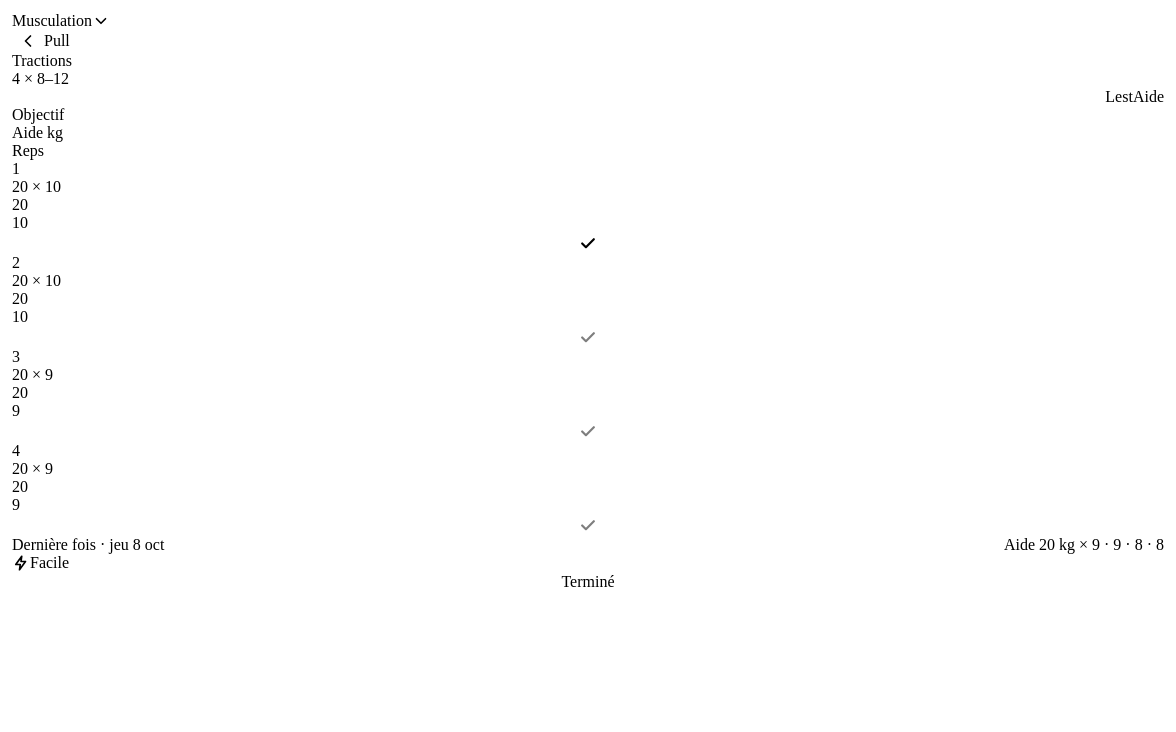
Test case: Exercice en cours — assistance (bodyweight exercises) › switching before any set is logged changes nothing stored; targets of the other mode are not targets
Expected: the heading "Tractions" is shown, [12,52,72,70]
Click the button "Lest" at (1119, 97), box [1105,88,1133,106]
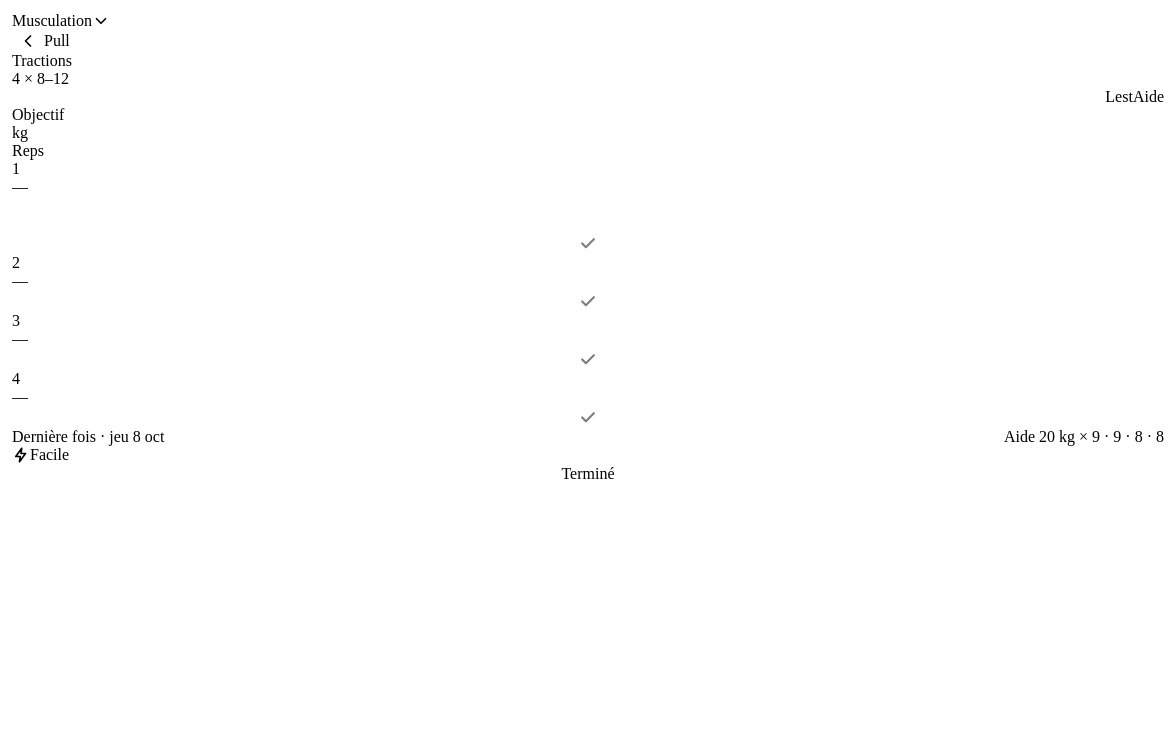
Now the text "20 × 10" is gone
Now the button named "Valider la série 1" is disabled, box [12,232,1164,254]
